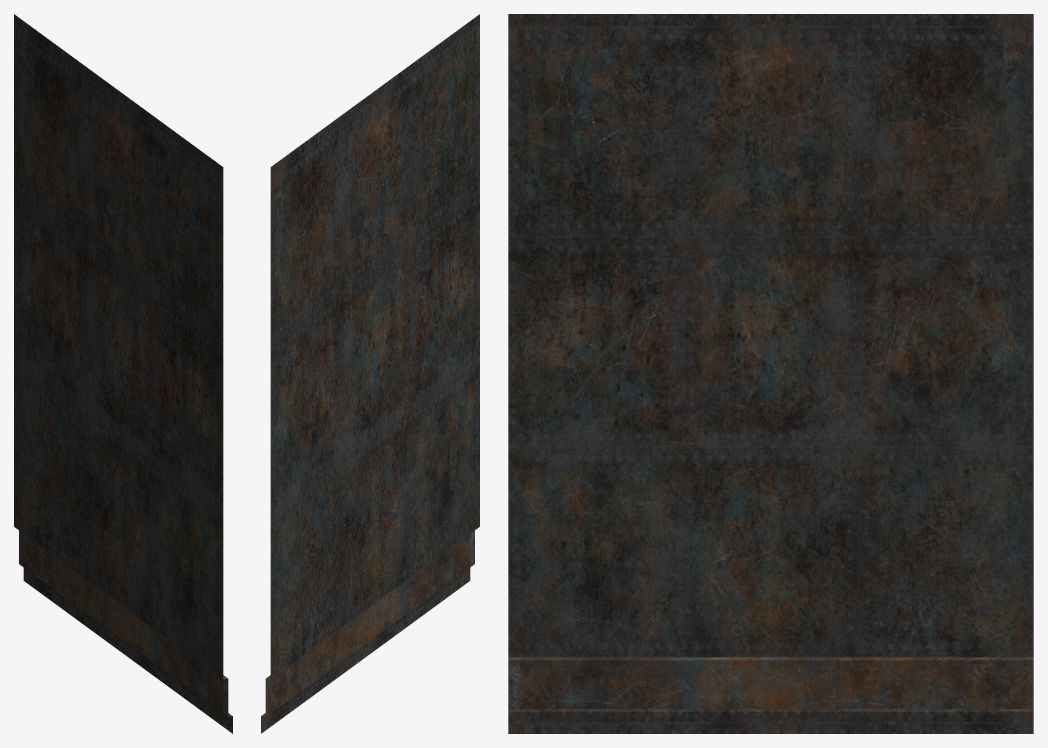
The model's file is Basement_Corridor_C_Wall_2m.glb.
The picture shows the model from 3 angles, left to right: view 1: azimuth 30°, elevation 25°; view 2: azimuth 150°, elevation 25°; view 3: azimuth 270°, elevation 25°; orthographic projection. The views are drawn at different scales.
Visible parts, largest first — view 1: Basement_Corridor_C_Wall_2m; view 2: Basement_Corridor_C_Wall_2m; view 3: Basement_Corridor_C_Wall_2m.
Part boxes in pixels (x1=…): Basement_Corridor_C_Wall_2m: x1=14, y1=14, x2=232, y2=733; Basement_Corridor_C_Wall_2m: x1=261, y1=14, x2=479, y2=733; Basement_Corridor_C_Wall_2m: x1=508, y1=14, x2=1033, y2=733.
Size of the model in its own units: 0.0532 by 3 by 2.
2 materials, 2 textured.
